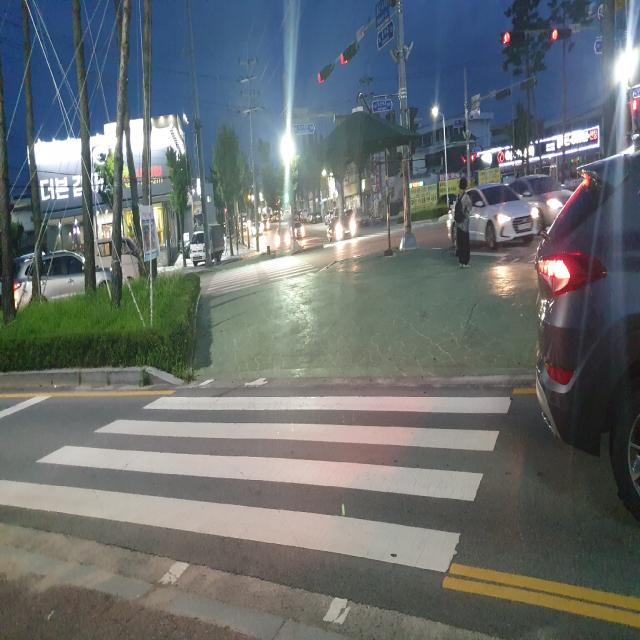횡단보도: (0, 376, 512, 626)
